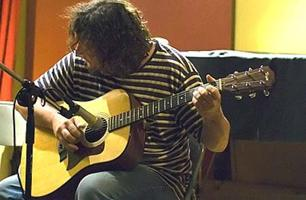person: (15, 3, 232, 199)
